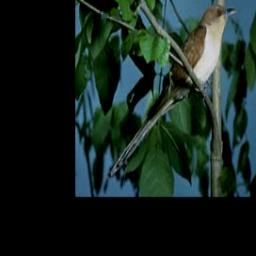Cuckoo: (107, 1, 241, 183)
